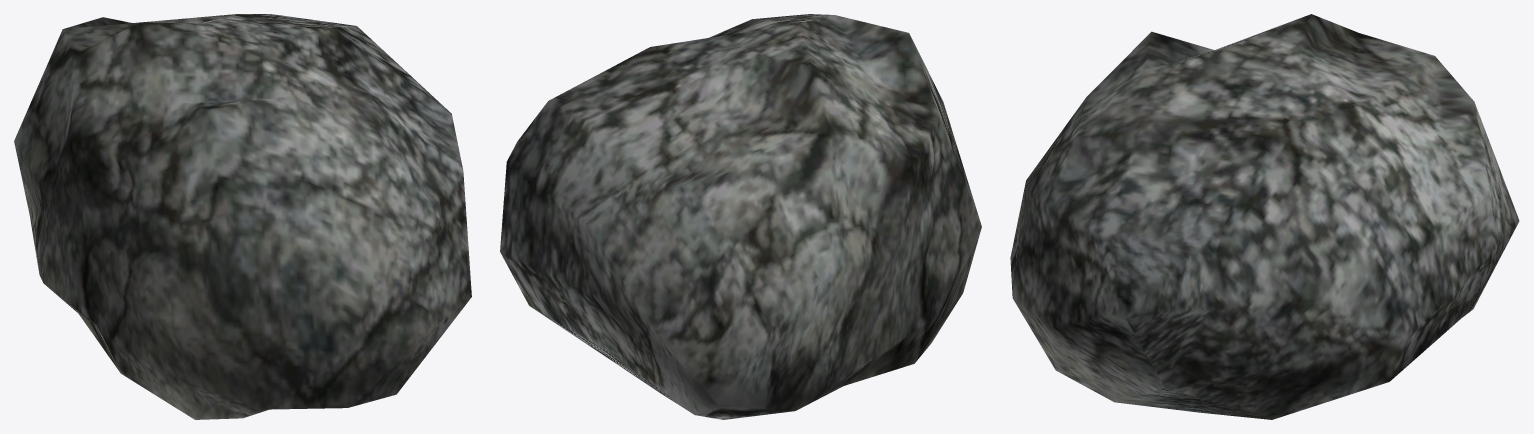
Rendered from stone_med01.dae.
3 views of the same model, side by side, from view 1: azimuth 30°, elevation 25°; view 2: azimuth 150°, elevation 25°; view 3: azimuth 270°, elevation 25° (orthographic). The views are drawn at different scales.
Parts seen in each view (by area): view 1: stone_med01_mesh; view 2: stone_med01_mesh; view 3: stone_med01_mesh.
Boxes of the visible parts, x1=… form: stone_med01_mesh: x1=14, y1=14, x2=471, y2=419; stone_med01_mesh: x1=500, y1=14, x2=981, y2=419; stone_med01_mesh: x1=1010, y1=14, x2=1519, y2=419.
Size of the model in its own units: 0.5873 by 0.4941 by 0.7098.
